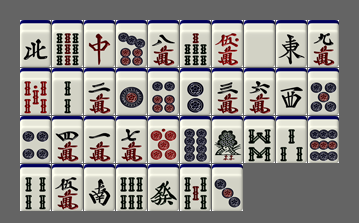0m: (212, 20, 243, 67)
0p: (148, 116, 179, 163)
0s: (20, 68, 51, 115)
1m: (84, 116, 115, 163)
1p: (116, 68, 147, 115)
1s: (212, 116, 243, 163)
1z: (276, 20, 307, 67)
2m: (84, 68, 115, 115)
2p: (180, 68, 211, 115)
2s: (52, 68, 83, 115)
2z: (84, 164, 115, 211)
3m: (212, 68, 243, 115)
3p: (212, 164, 243, 211)
3s: (276, 116, 307, 163)
3z: (276, 68, 307, 115)
4m: (52, 116, 83, 163)
4p: (20, 116, 51, 163)
4s: (20, 164, 51, 211)
4z: (20, 20, 51, 67)
5m: (52, 164, 83, 211)
5p: (308, 68, 339, 115)
5s: (180, 164, 211, 211)
5z: (244, 20, 275, 67)
6m: (244, 68, 275, 115)
6p: (148, 68, 179, 115)
6s: (116, 164, 147, 211)
6z: (148, 164, 179, 211)
7m: (116, 116, 147, 163)
7p: (116, 20, 147, 67)
7s: (180, 20, 211, 67)
7z: (84, 20, 115, 67)
8m: (148, 20, 179, 67)
8p: (180, 116, 211, 163)
8s: (244, 116, 275, 163)
9m: (308, 20, 339, 67)
9p: (308, 116, 339, 163)
9s: (52, 20, 83, 67)
